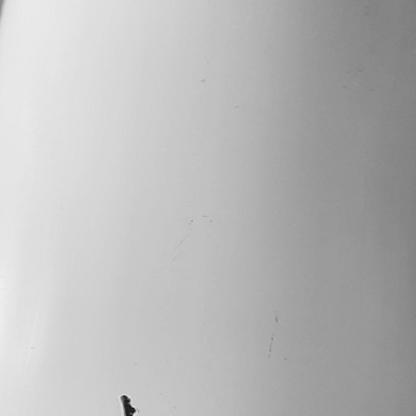kongdong: (120, 392, 137, 416)
